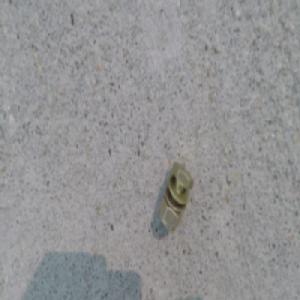BoltNutSet: (160, 159, 197, 231)
